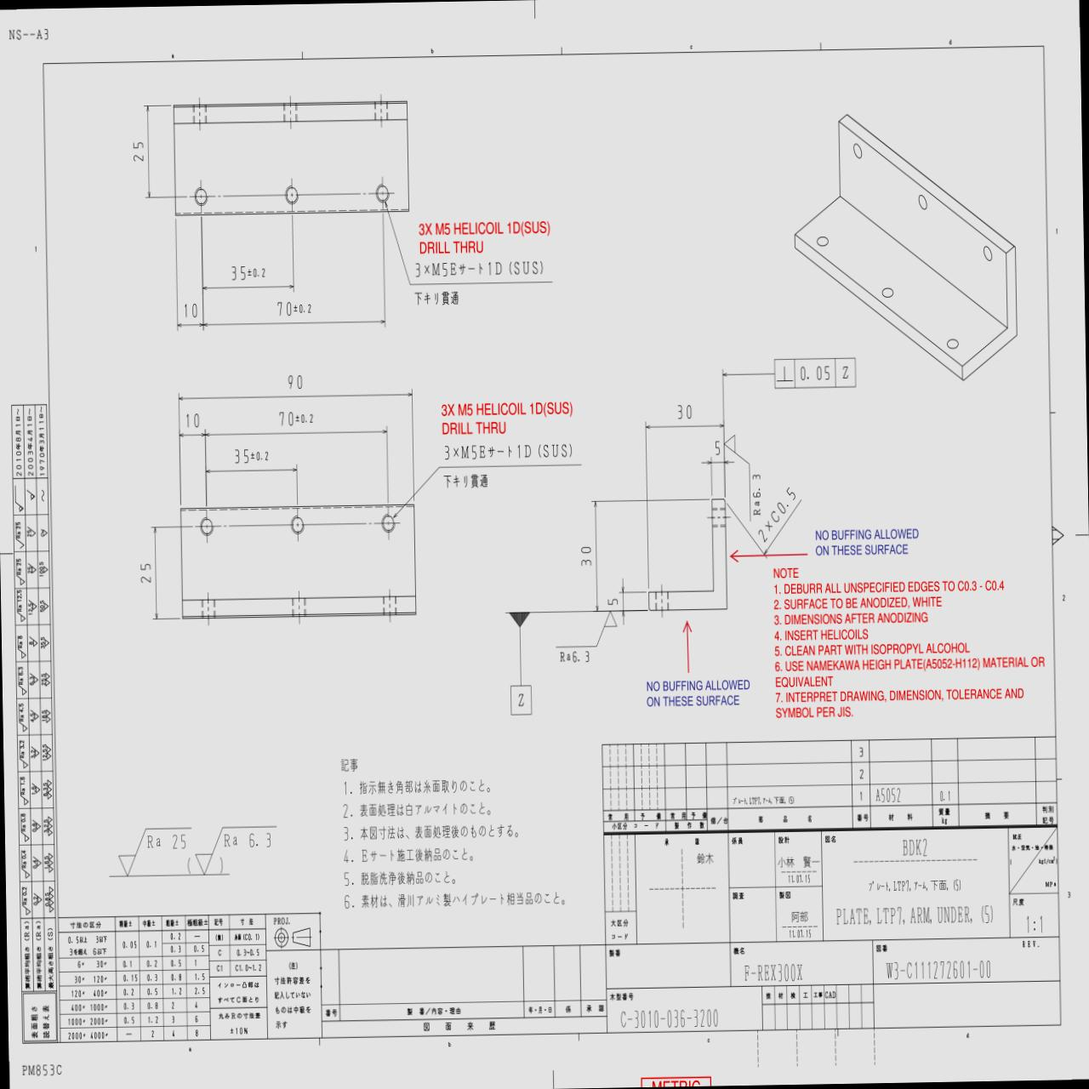basic_dimension: (231, 264, 265, 282), (279, 410, 314, 426), (234, 448, 269, 464), (277, 301, 312, 316), (140, 562, 152, 584), (581, 545, 593, 567), (677, 403, 692, 420), (133, 142, 145, 163), (288, 374, 303, 389), (186, 413, 201, 428), (184, 303, 198, 319), (714, 439, 721, 456), (607, 597, 619, 606)
datum_symbol: (508, 612, 532, 715)
dimension_chamfer_symbol: (769, 486, 797, 524)
dimension_metric_symbol: (460, 445, 470, 461), (432, 261, 441, 277)
gdt_frame_symbol: (773, 356, 858, 391)
gdt_perpendicularity_symbol: (777, 366, 793, 381)
surface_finish_symbol: (724, 435, 751, 522), (556, 610, 618, 647)
